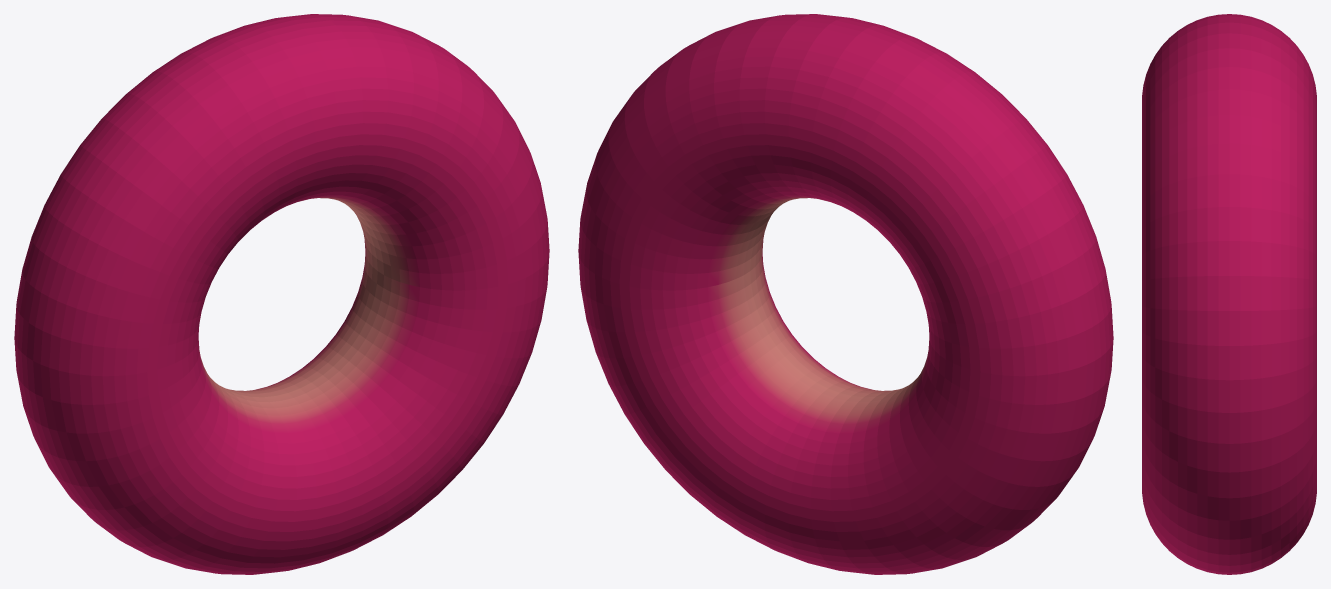
3 views of the same model, side by side, from view 1: azimuth 30°, elevation 25°; view 2: azimuth 150°, elevation 25°; view 3: azimuth 270°, elevation 25° (orthographic). The views are drawn at different scales.
Visible parts, largest first — view 1: world; view 2: world; view 3: world.
Boxes of the visible parts, x1,y1,x2,y2 form: world: [14, 14, 549, 574]; world: [578, 14, 1113, 574]; world: [1142, 14, 1316, 574].
Size of the model in its own units: 32 by 31.94 by 9.98.
